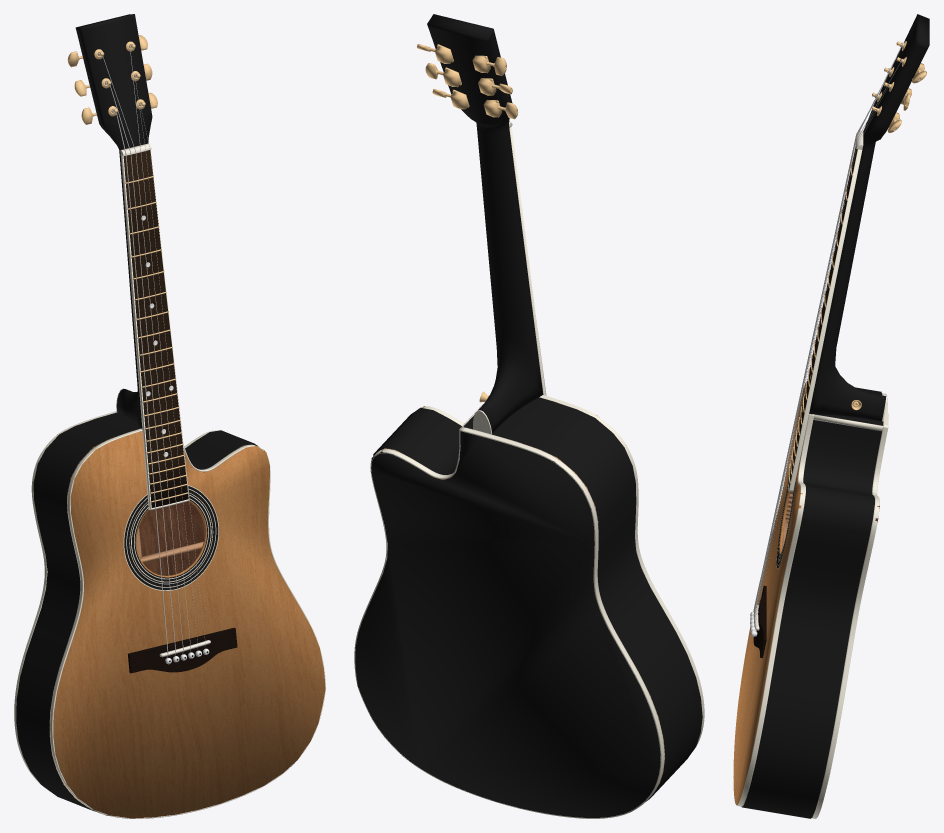
File: guitar-draco.glb
3 views of the same model, side by side, from view 1: azimuth 30°, elevation 25°; view 2: azimuth 150°, elevation 25°; view 3: azimuth 270°, elevation 25° (orthographic). The views are drawn at different scales.
Parts seen in each view (by area): view 1: Front board, Sideboards, Fretboard, Neck, Binding_front and back, Strings, Backboard, Rossete, Bridge, Fretboard_Binding, Fretboard_Frets, Tunner_Knobs; view 2: Backboard, Sideboards, Neck, Binding_front and back, Tunner_Houseing, Fretboard_Binding, Tunner_Knobs; view 3: Sideboards, Neck, Front board, Binding_front and back, Strings, Fretboard_Binding, Fretboard, Fretboard_Frets, Bridge, Binding_top.
Boxes of the visible parts, x1,y1,x2,y2 form: Front board: [53, 431, 325, 818]; Sideboards: [16, 412, 264, 815]; Fretboard: [123, 150, 188, 507]; Neck: [75, 14, 152, 429]; Binding_front and back: [14, 411, 325, 818]; Strings: [98, 44, 205, 658]; Backboard: [57, 434, 204, 796]; Rossete: [123, 485, 218, 590]; Bridge: [127, 628, 237, 673]; Fretboard_Binding: [120, 149, 189, 510]; Fretboard_Frets: [125, 176, 188, 502]; Tunner_Knobs: [67, 35, 157, 124]; Backboard: [355, 431, 660, 817]; Sideboards: [373, 397, 702, 801]; Neck: [427, 14, 543, 433]; Binding_front and back: [354, 395, 704, 818]; Tunner_Houseing: [435, 44, 501, 117]; Fretboard_Binding: [509, 126, 545, 395]; Tunner_Knobs: [417, 44, 518, 119]; Sideboards: [741, 387, 883, 818]; Neck: [809, 14, 929, 421]; Front board: [733, 381, 807, 804]; Binding_front and back: [733, 393, 888, 818]; Strings: [753, 42, 902, 631]; Fretboard_Binding: [788, 149, 862, 491]; Fretboard: [788, 146, 857, 488]; Fretboard_Frets: [788, 161, 852, 483]; Bridge: [753, 585, 766, 657]; Binding_top: [813, 414, 883, 431].
Size of the model in its own units: 0.3659 by 0.9463 by 0.2202.
12 materials, 6 textured.
